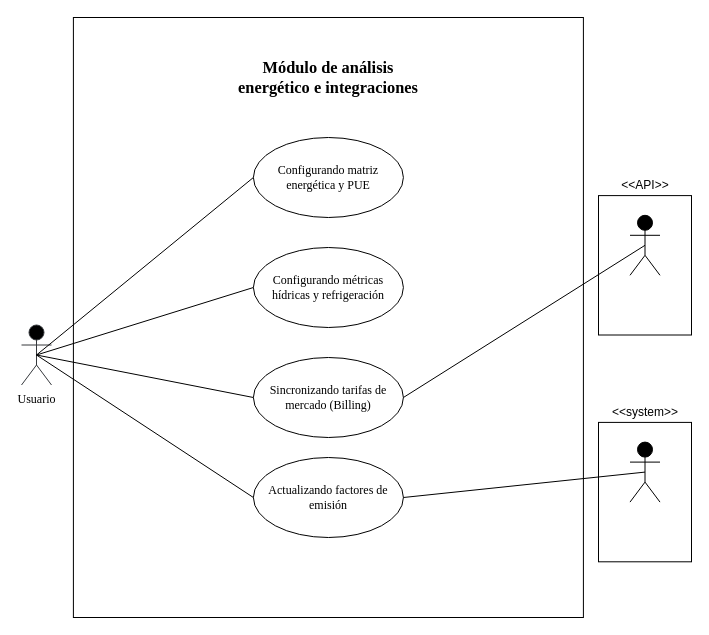
Image size: 709x635. Some labels were removed from this diagram. The centre of each missing label's shape, as x and y in pixels:
"API Billing Cloud" belongs at (x=644, y=244).
"Fuente Oficial Ambiental" belongs at (x=644, y=471).
